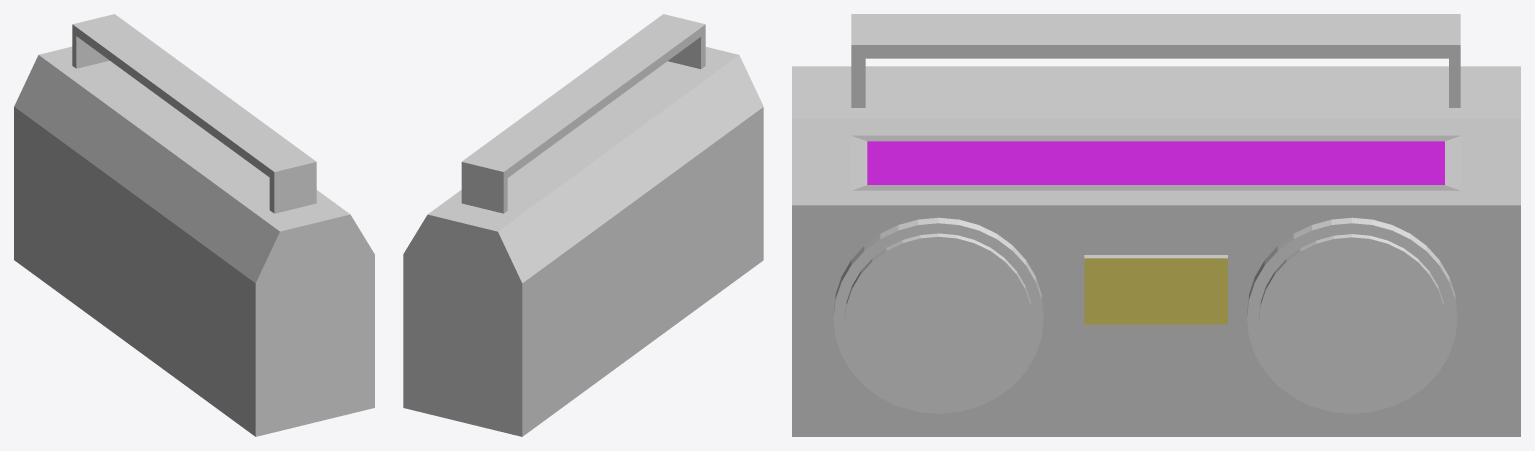
The model's file is boombox.fbx.
3 views of the same model, side by side, from view 1: azimuth 30°, elevation 25°; view 2: azimuth 150°, elevation 25°; view 3: azimuth 270°, elevation 25° (orthographic). The views are drawn at different scales.
Visible parts, largest first — view 1: Cube; view 2: Cube; view 3: Cube, Cylinder.002, Cylinder.003, Cylinder, Cylinder.001.
Part boxes in pixels (x1=…): Cube: x1=14, y1=14, x2=374, y2=436; Cube: x1=403, y1=14, x2=763, y2=436; Cube: x1=792, y1=14, x2=1520, y2=436; Cylinder.002: x1=844, y1=233, x2=1032, y2=406; Cylinder.003: x1=1259, y1=234, x2=1445, y2=406; Cylinder: x1=1247, y1=217, x2=1457, y2=413; Cylinder.001: x1=833, y1=217, x2=1043, y2=413.
Size of the model in its own units: 816 by 1433 by 2602.
